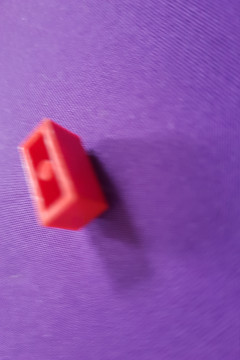1x2 red: (17, 118, 109, 232)
